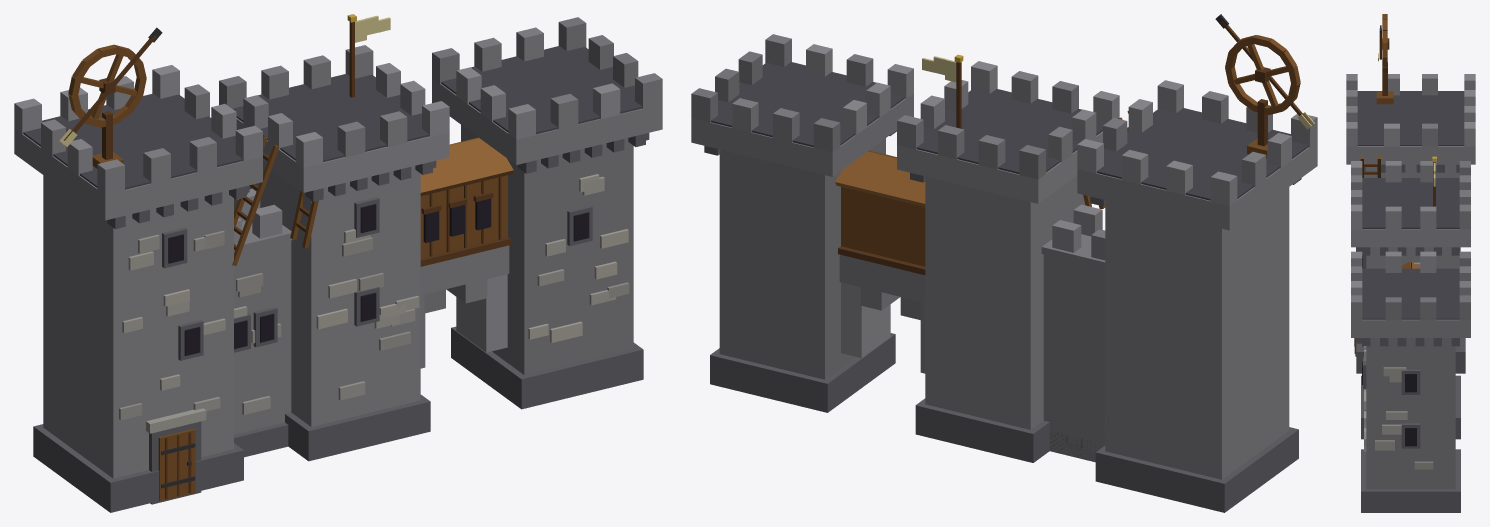
The model's file is stage3.glb.
3 renders of one model, left to right at view 1: azimuth 30°, elevation 25°; view 2: azimuth 150°, elevation 25°; view 3: azimuth 270°, elevation 25°, orthographic. The views are drawn at different scales.
Parts seen in each view (by area): view 1: body, ballista; view 2: body, ballista; view 3: body, ballista.
Boxes of the visible parts, left/top/right/bottom form: body: left=14, top=14, right=662, bottom=512; ballista: left=59, top=27, right=162, bottom=168; body: left=691, top=34, right=1317, bottom=512; ballista: left=1215, top=14, right=1314, bottom=158; body: left=1346, top=74, right=1475, bottom=512; ballista: left=1376, top=14, right=1393, bottom=104.
Size of the model in its own units: 10.08 by 7.62 by 2.74.
